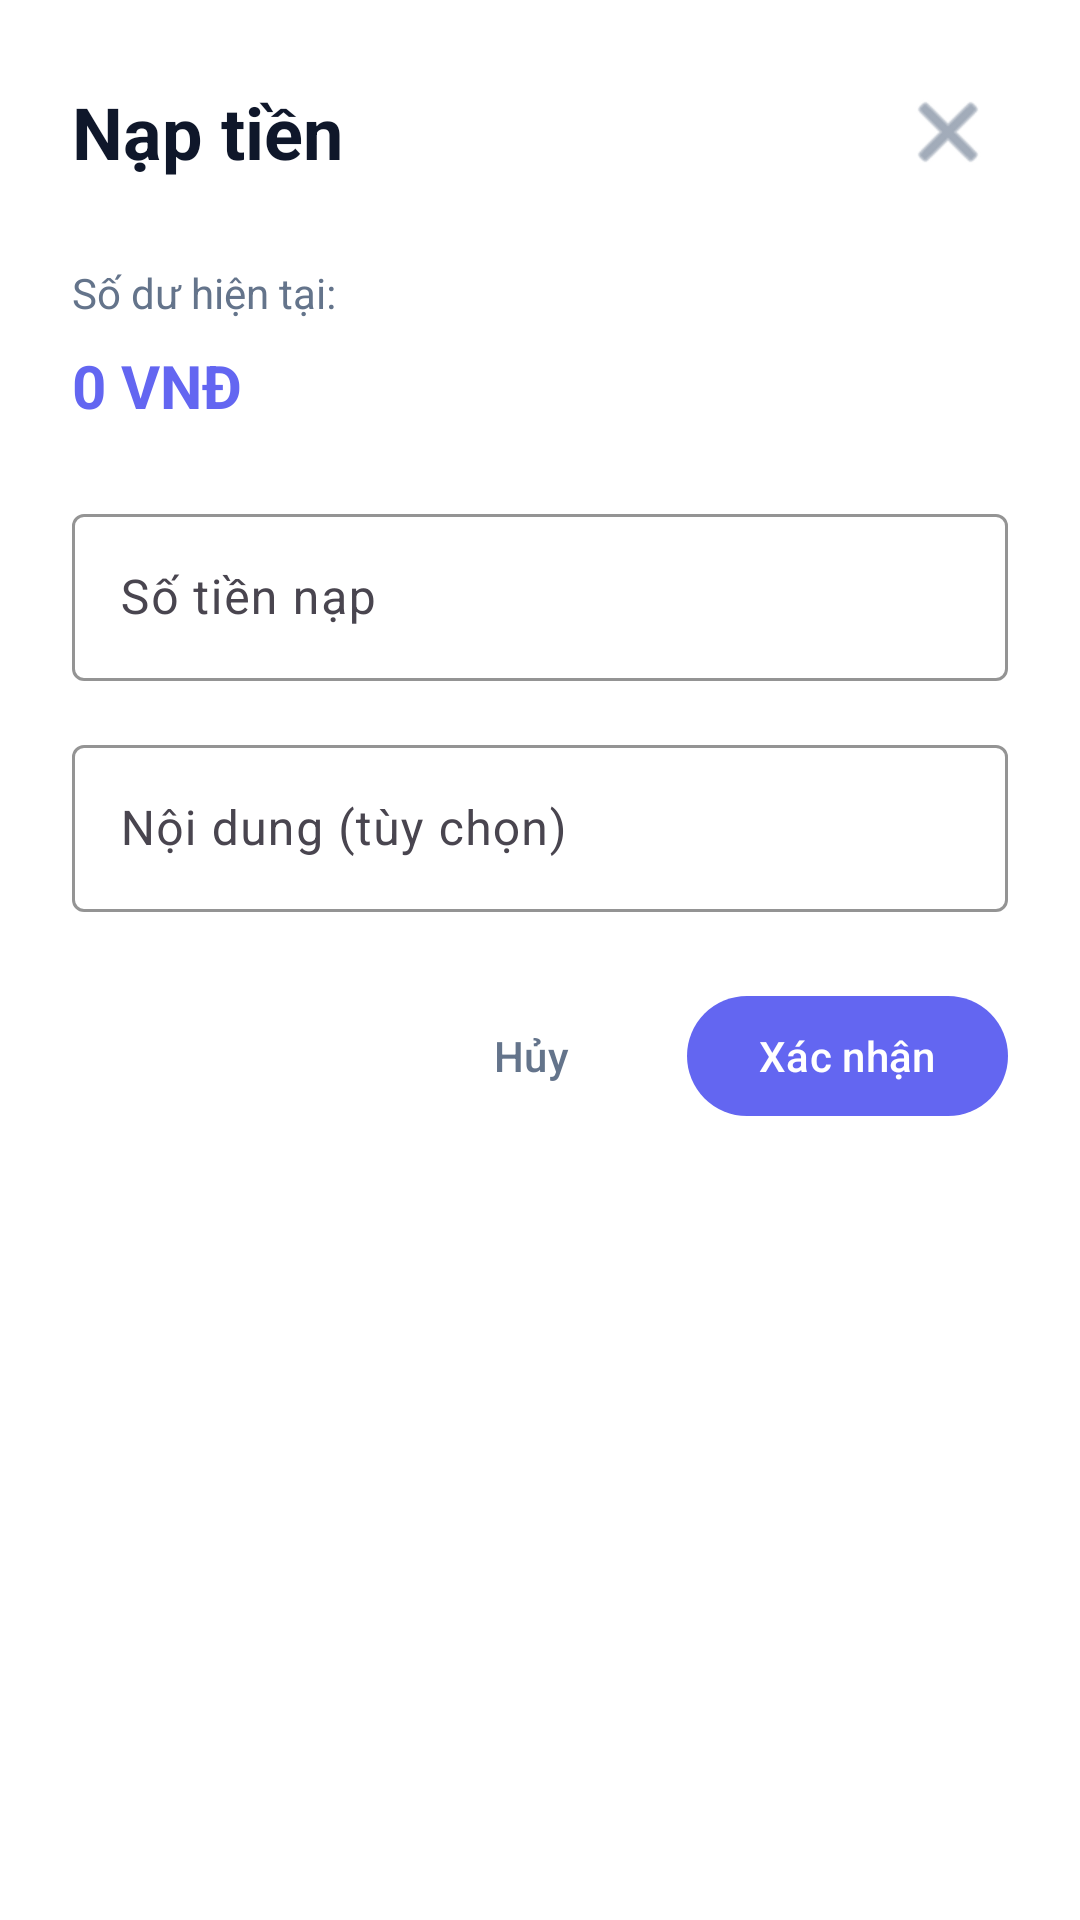

Icons on this 1080*1920 Android screen, each with the point to tap as point (x, y):
Close: point (948, 132)
